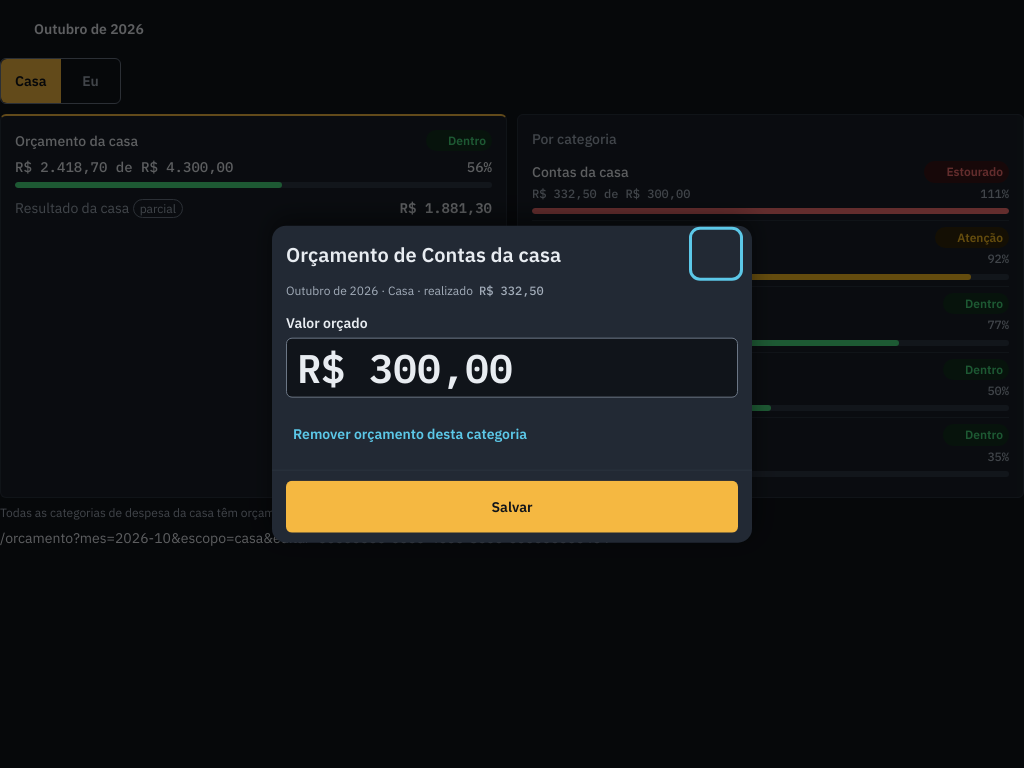
Folha de valor do orçamento: erros › registro_invalido mostra o aviso de topo e invalida orcamento_mes
The image size is (1024, 768).
Click the button "Salvar" at (512, 506), box [286,480,738,532]
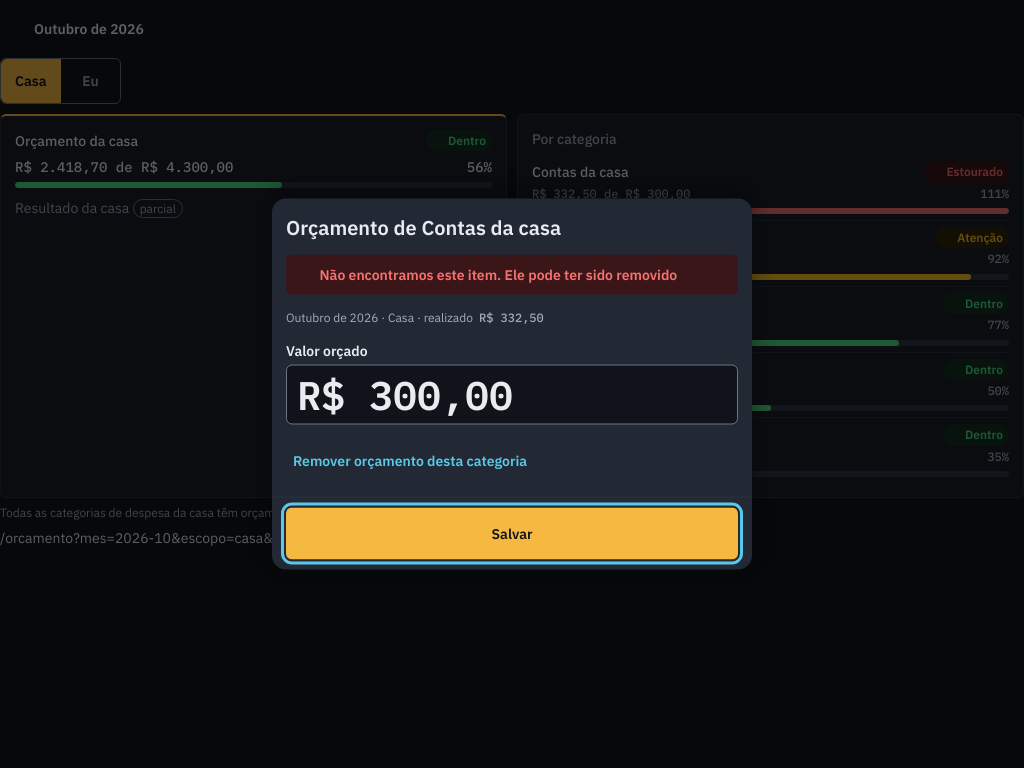
Now the message "Não encontramos este item. Ele pode ter sido removido" is shown, box [286,254,738,295]
